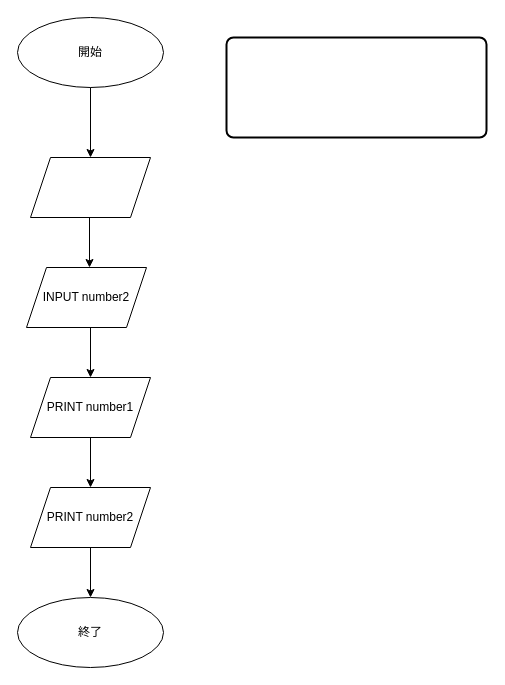
Some shapes in this 505 by 685 pixel diagram are drawn without their labels. Each missing label, with the centre of its shape:
"INPUT number1" goes at (90,187).
"変数定義 number1: 1つめの数値 number2: 2つめの数値" goes at (356,87).
